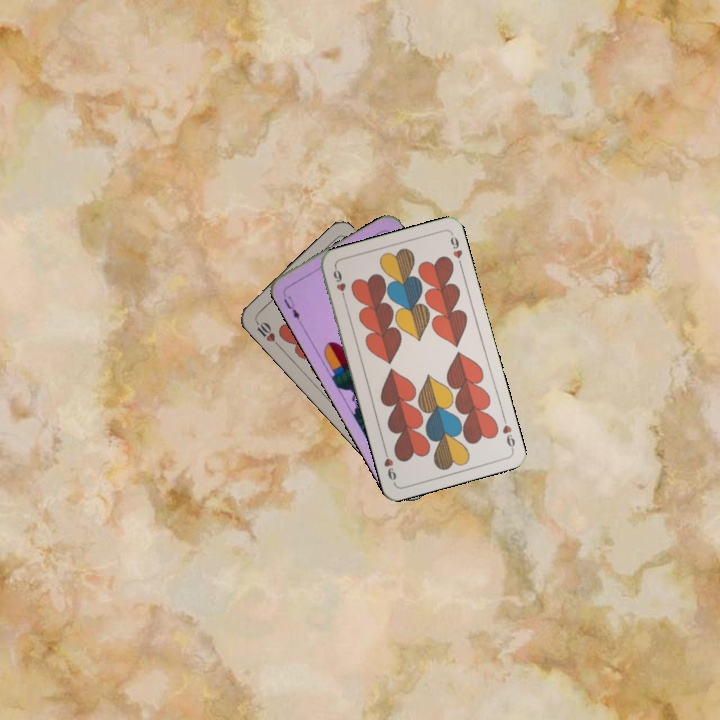EU: (279, 292, 304, 326)
H10: (251, 316, 282, 349)
H9: (329, 263, 349, 303), (498, 412, 518, 452)
